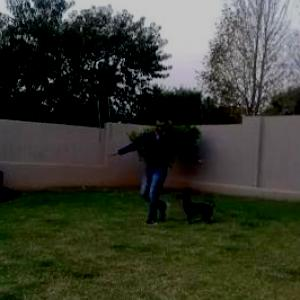land: (128, 114, 211, 212)
